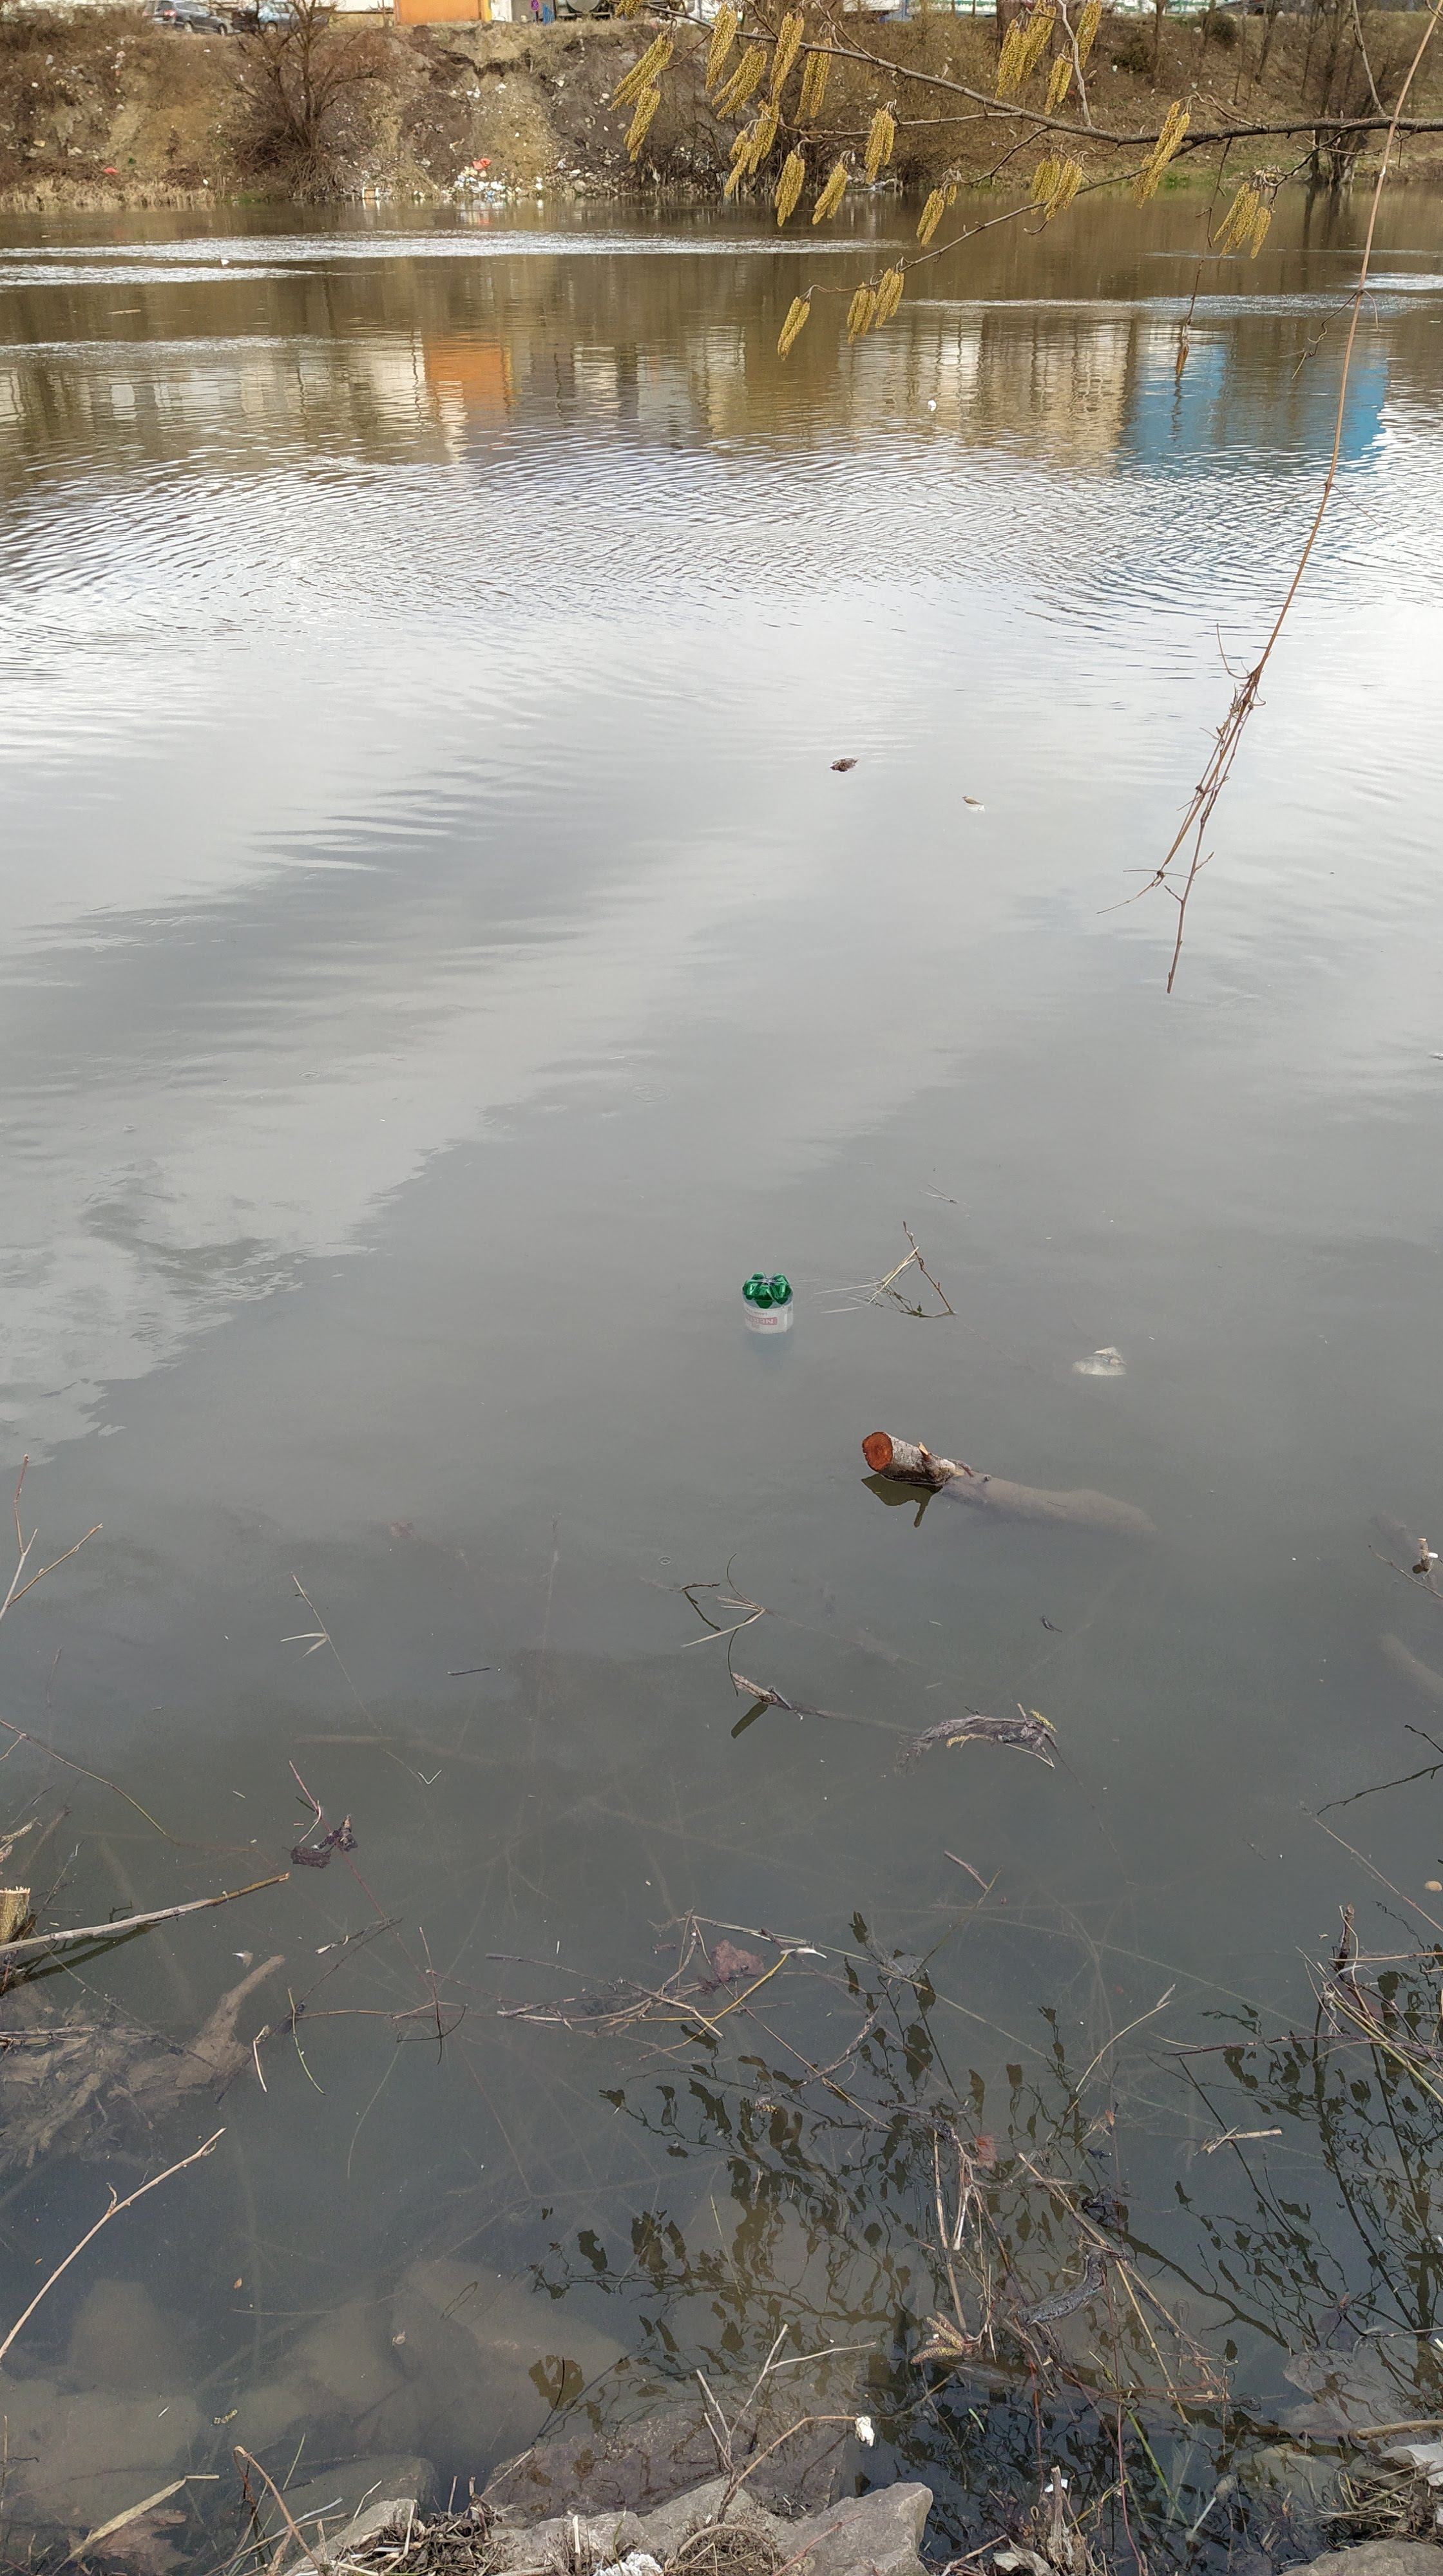Plastic Bottle: (742, 1272, 793, 1309), (928, 400, 935, 407)
